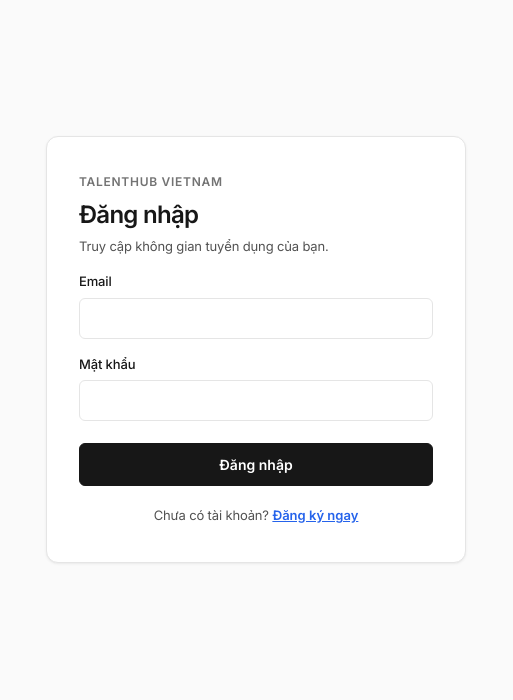
Test: TalentHub authentication shell › allows a guest to open the registration screen
Step 1. Click the button "Đăng ký ngay" → coordinates (315, 516), box [272,506,358,526]
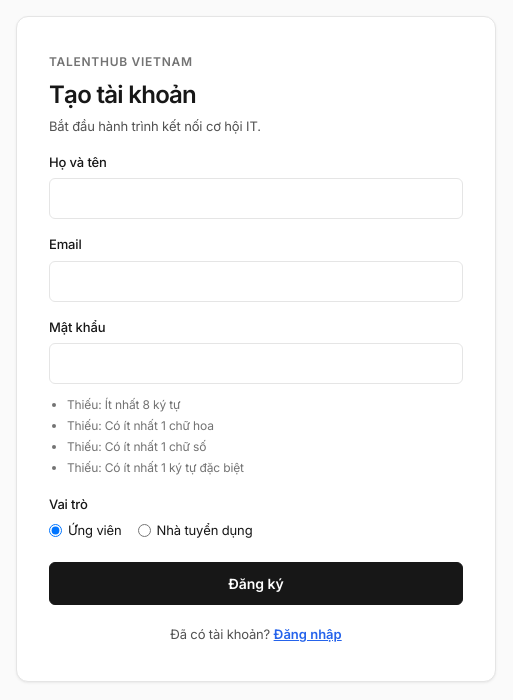
Check: the heading "Tạo tài khoản" is shown, box [49,80,196,109]
Check: the field labelled "Họ và tên" is shown, box [49,178,463,219]
Check: the radio button labelled "Ứng viên" is checked, box [49,524,62,537]
